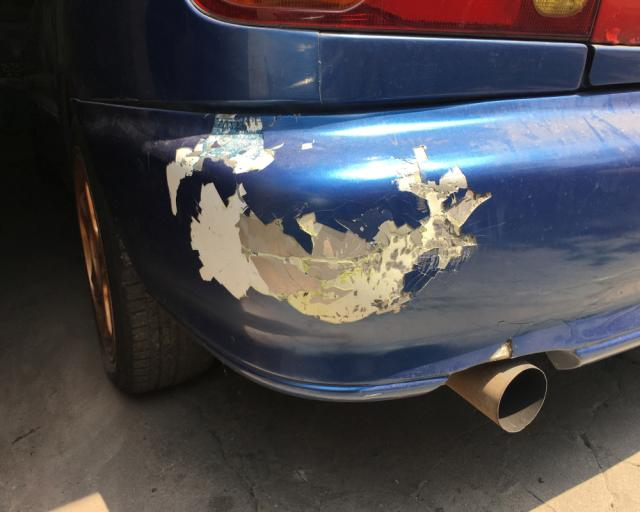scratch: (166, 111, 493, 330)
